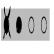correct: (16, 16, 22, 35)
not correct: (3, 4, 11, 41)
